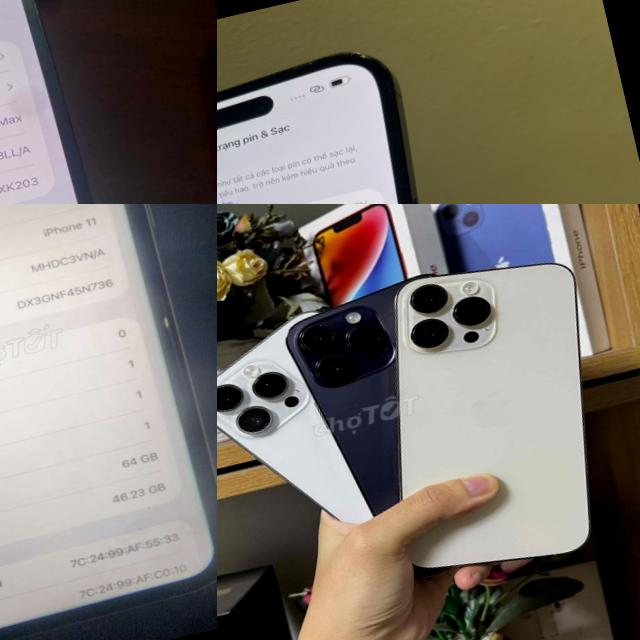gen_11: (0, 204, 217, 640)
gen_14: (342, 242, 640, 590), (217, 29, 507, 204), (0, 0, 185, 204)
